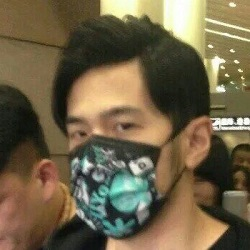mask: (64, 129, 186, 238)
